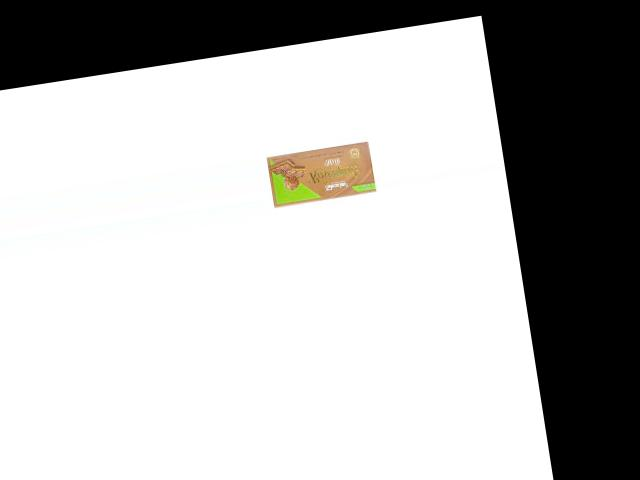chocolate: (265, 138, 380, 212)
